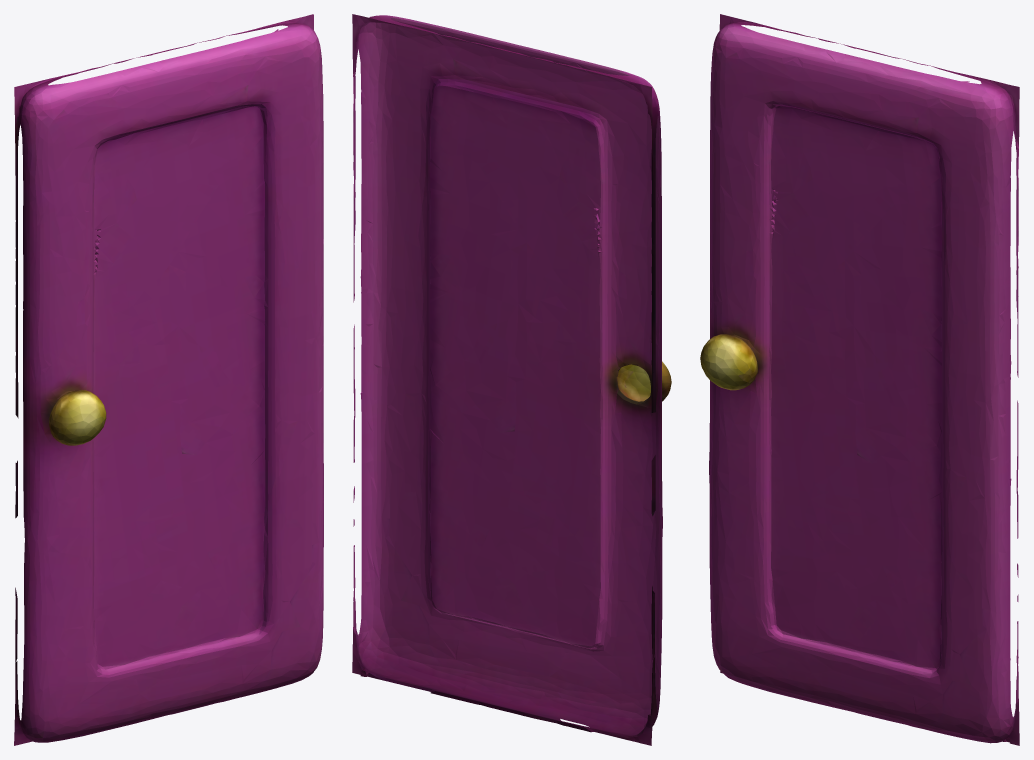
The model's file is door_right.glb.
3 renders of one model, left to right at view 1: azimuth 30°, elevation 25°; view 2: azimuth 150°, elevation 25°; view 3: azimuth 330°, elevation 25°, orthographic.
Visible parts, largest first — view 1: source_surface_0; view 2: source_surface_0; view 3: source_surface_0.
Boxes of the visible parts, left/top/right/bottom form: source_surface_0: left=14, top=14, right=323, bottom=745; source_surface_0: left=352, top=14, right=671, bottom=745; source_surface_0: left=700, top=14, right=1019, bottom=745.
Bounding box in the file's own units: 0.137 × 0.2879 × 0.0305.
Materials: 1 (1 with a texture image).
